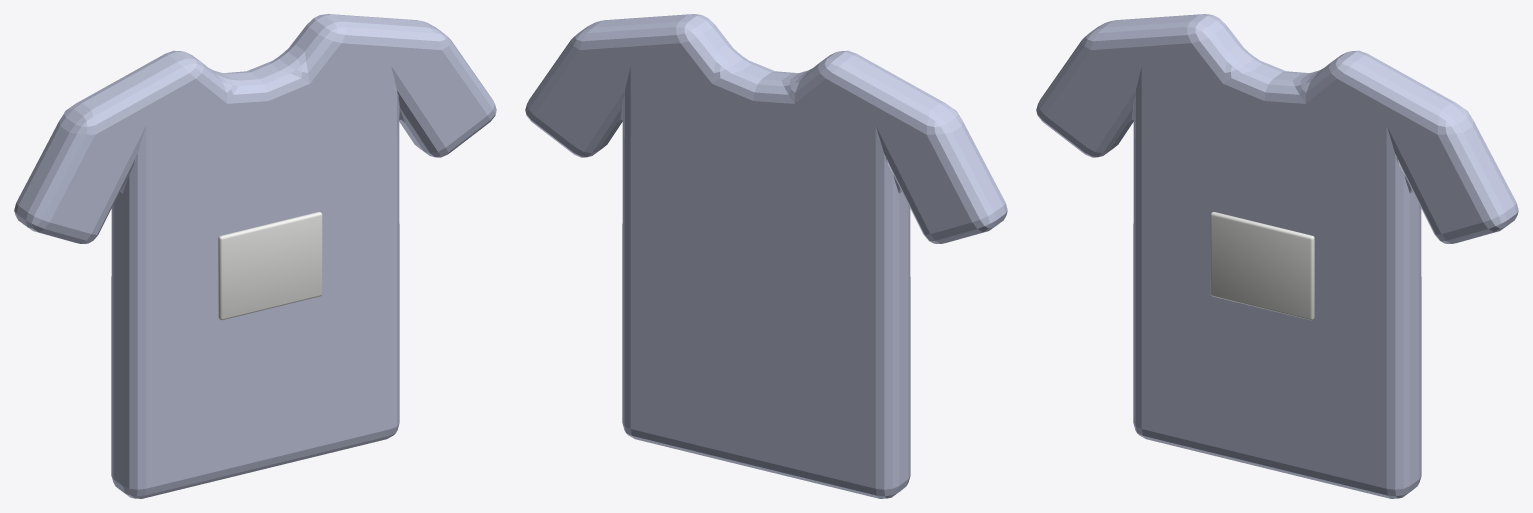
The model's file is shirt.glb.
3 views of the same model, side by side, from view 1: azimuth 30°, elevation 25°; view 2: azimuth 150°, elevation 25°; view 3: azimuth 330°, elevation 25° (orthographic).
Visible parts, largest first — view 1: tee, print; view 2: tee; view 3: tee, print.
Part boxes in pixels (bbox=[...]): tee: bbox=[14, 14, 496, 498]; print: bbox=[218, 212, 322, 320]; tee: bbox=[525, 14, 1007, 498]; tee: bbox=[1036, 14, 1518, 498]; print: bbox=[1210, 212, 1314, 320].
Size of the model in its own units: 0.8203 by 0.7145 by 0.09.
